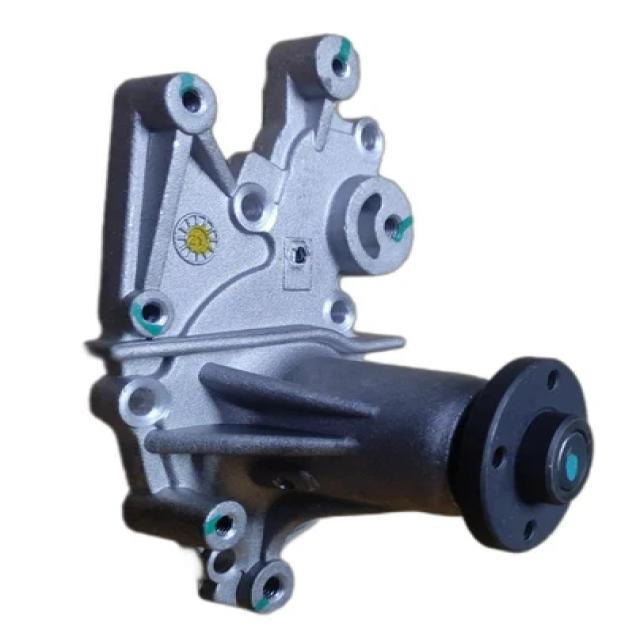video2: (84, 31, 595, 615)
